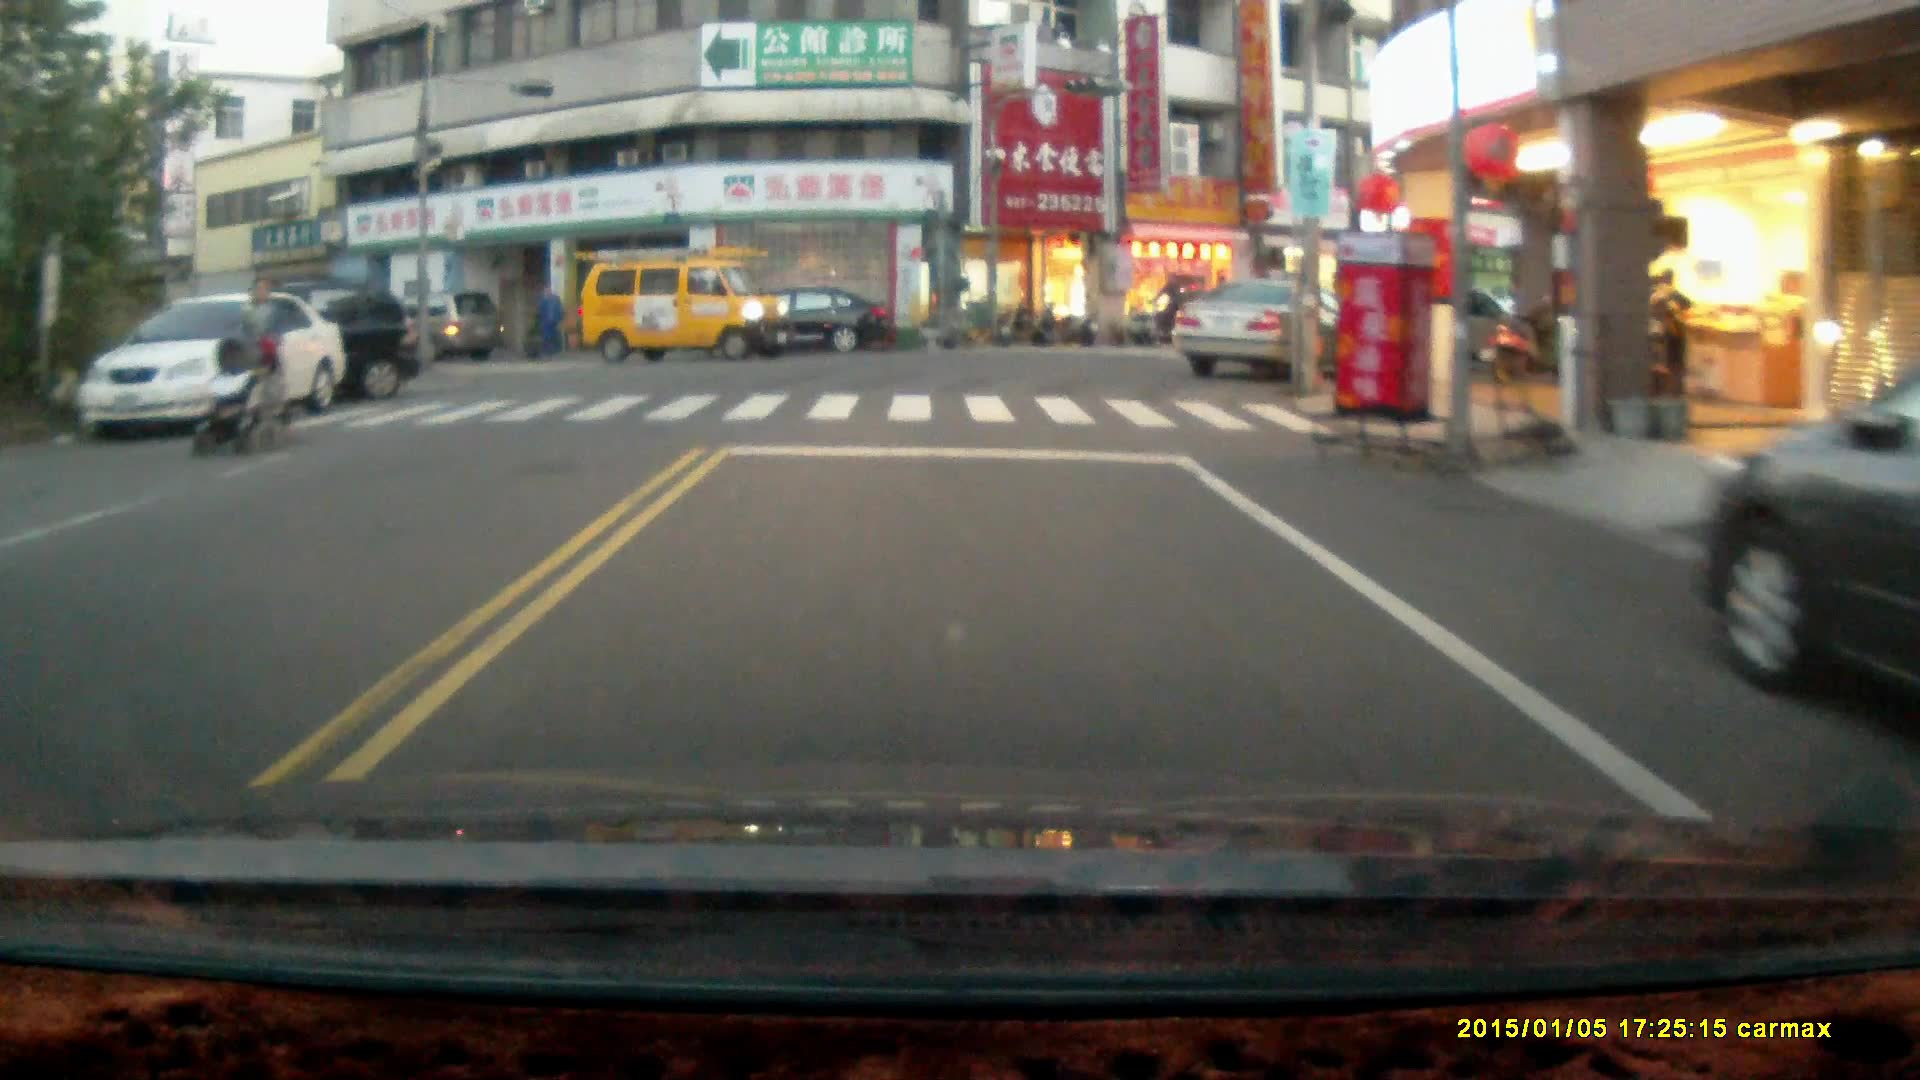pedestrian: (237, 270, 282, 422), (1653, 267, 1691, 408), (536, 282, 563, 357)
rider: (187, 324, 283, 457), (1127, 267, 1188, 350)
vehicle: (70, 291, 343, 445), (155, 276, 416, 404), (581, 243, 794, 361), (1176, 276, 1354, 381), (718, 287, 889, 360), (377, 290, 510, 368)
